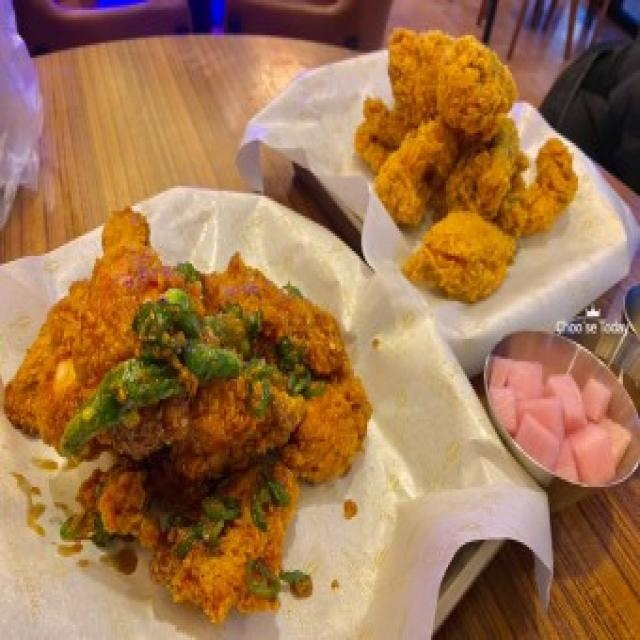Frango: (0, 200, 355, 624), (349, 14, 572, 312)
